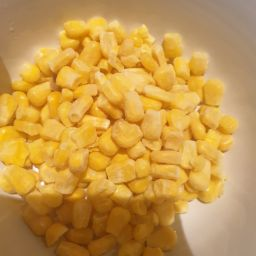Corn Kernel: (3, 58, 241, 221), (99, 14, 237, 256), (81, 8, 181, 256), (45, 19, 98, 256), (3, 43, 50, 236)
